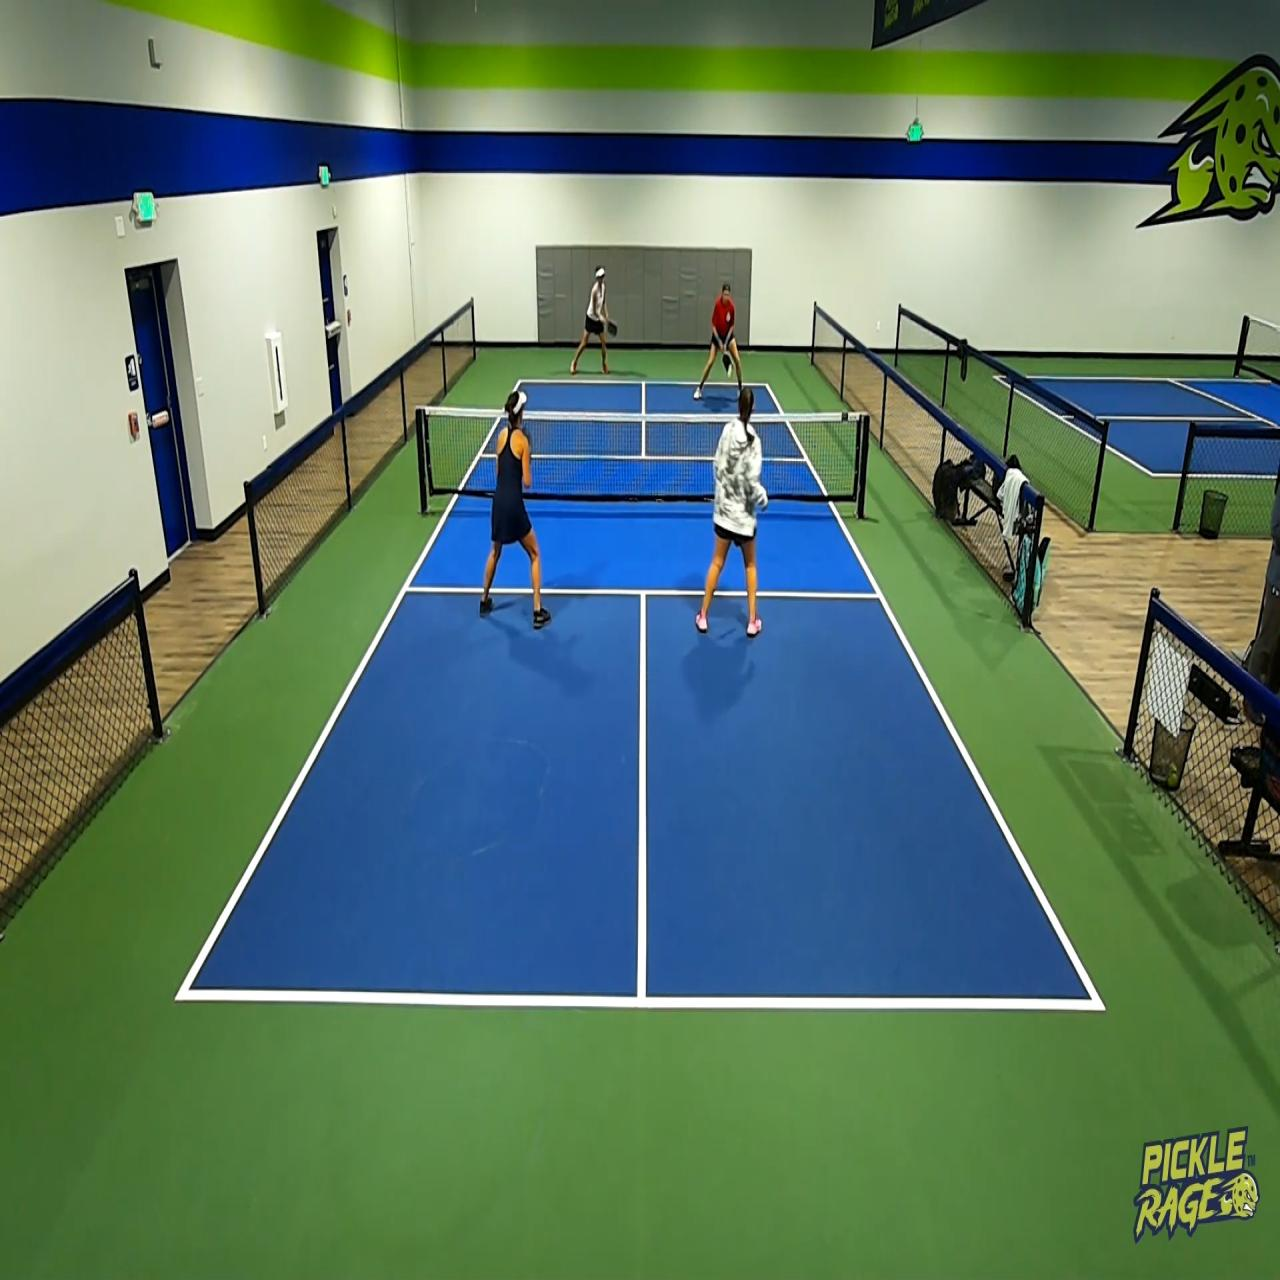Pickleball: (726, 363, 733, 382)
